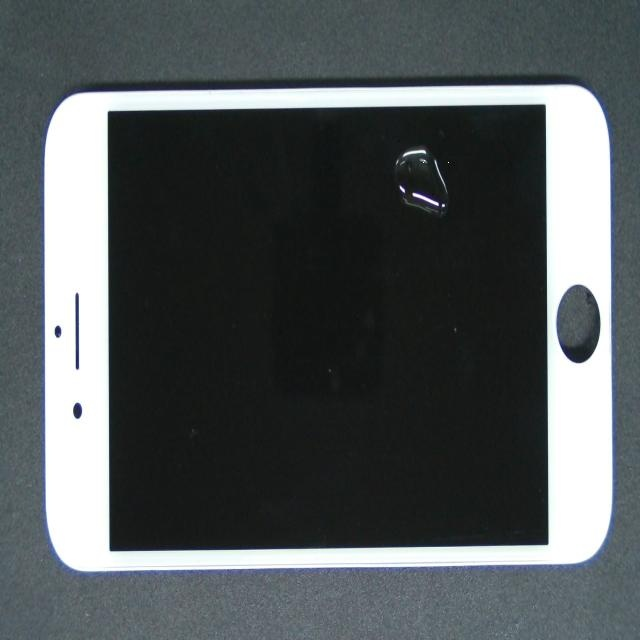oil: (225, 99, 640, 237)
